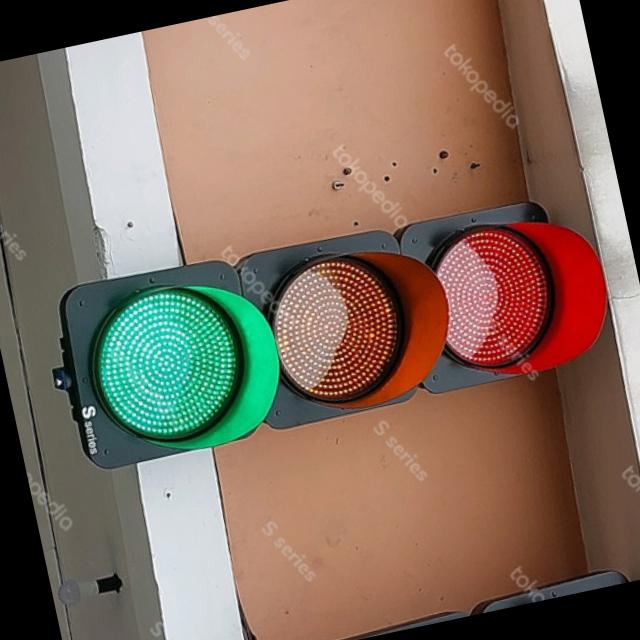green-lights: (84, 282, 250, 448)
red-lights: (426, 218, 560, 374)
yellow-lights: (262, 251, 410, 408)
